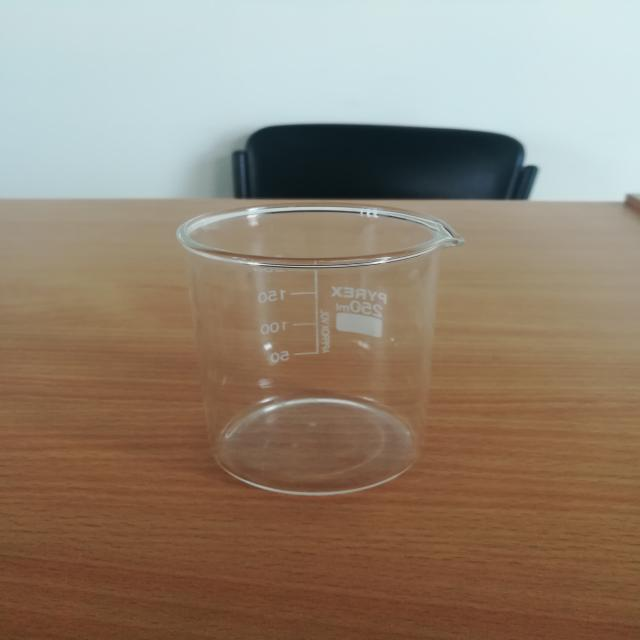Beaker: (145, 176, 508, 510)
